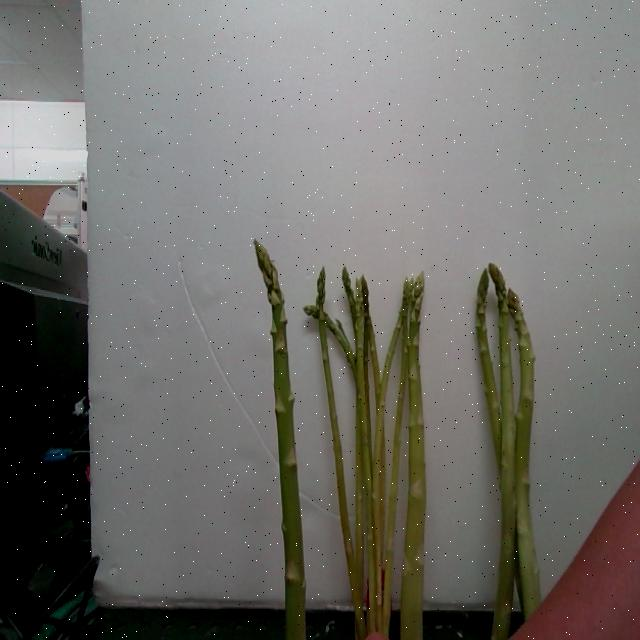aspargus: (254, 241, 309, 640), (507, 283, 539, 620), (401, 273, 428, 640)
